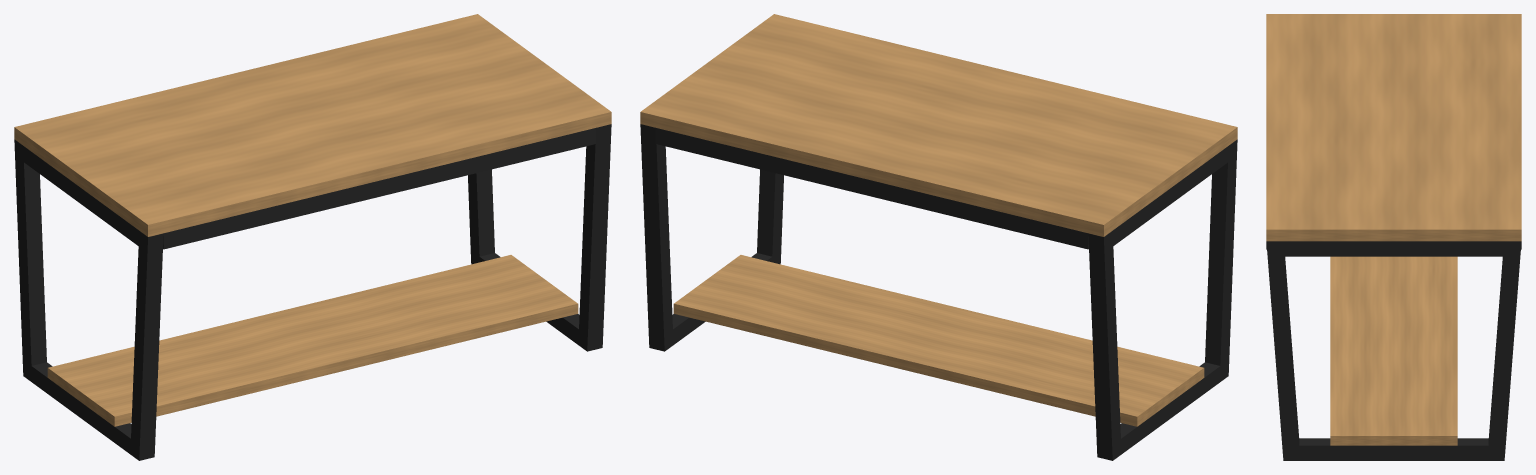
The model's file is mesa-living-nord-estante-miel-negro-4cm.glb.
3 renders of one model, left to right at view 1: azimuth 30°, elevation 25°; view 2: azimuth 150°, elevation 25°; view 3: azimuth 270°, elevation 25°, orthographic. The views are drawn at different scales.
Parts seen in each view (by area): view 1: Tapa de madera maciza 120 x 60 x 3 cm, Estante inferior de madera de 120 cm (proporción aproximada), Patas inclinadas con cortes a inglete, Larguero longitudinal superior de hierro 4 x 4 mm, Travesaño inferior del trapecio, perfil 4 cm (×2), Travesaño superior del trapecio, perfil 4 cm; view 2: Tapa de madera maciza 120 x 60 x 3 cm, Estante inferior de madera de 120 cm (proporción aproximada), Patas inclinadas con cortes a inglete, Larguero longitudinal superior de hierro 4 x 4 mm, Travesaño inferior del trapecio, perfil 4 cm (×2), Travesaño superior del trapecio, perfil 4 cm; view 3: Tapa de madera maciza 120 x 60 x 3 cm, Estante inferior de madera de 120 cm (proporción aproximada), Patas inclinadas con cortes a inglete, Travesaño superior del trapecio, perfil 4 cm, Travesaño inferior del trapecio, perfil 4 cm.
Part boxes in pixels (x1,y1,x2,y2): Tapa de madera maciza 120 x 60 x 3 cm: (14,14,611,236); Estante inferior de madera de 120 cm (proporción aproximada): (47,255,578,426); Patas inclinadas con cortes a inglete: (14,124,611,460); Larguero longitudinal superior de hierro 4 x 4 mm: (163,128,596,249); Travesaño inferior del trapecio, perfil 4 cm (×2): (31,253,582,453); Travesaño superior del trapecio, perfil 4 cm: (23,146,142,246); Tapa de madera maciza 120 x 60 x 3 cm: (640,14,1237,236); Estante inferior de madera de 120 cm (proporción aproximada): (673,255,1204,426); Patas inclinadas con cortes a inglete: (640,124,1237,460); Larguero longitudinal superior de hierro 4 x 4 mm: (655,128,1088,249); Travesaño inferior del trapecio, perfil 4 cm (×2): (669,253,1224,453); Travesaño superior del trapecio, perfil 4 cm: (1108,146,1228,249); Tapa de madera maciza 120 x 60 x 3 cm: (1266,14,1521,241); Estante inferior de madera de 120 cm (proporción aproximada): (1330,256,1457,445); Patas inclinadas con cortes a inglete: (1266,241,1521,460); Travesaño superior del trapecio, perfil 4 cm: (1275,241,1512,256); Travesaño inferior del trapecio, perfil 4 cm: (1292,438,1495,460).
Bounding box in the file's own units: 1.2 × 0.6 × 0.6.
2 materials, 1 textured.
